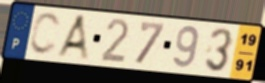2: (97, 17, 130, 64)
3: (200, 27, 237, 74)
7: (135, 20, 167, 67)
9: (171, 24, 201, 71)
A: (55, 13, 92, 63)
C: (28, 11, 63, 57)
